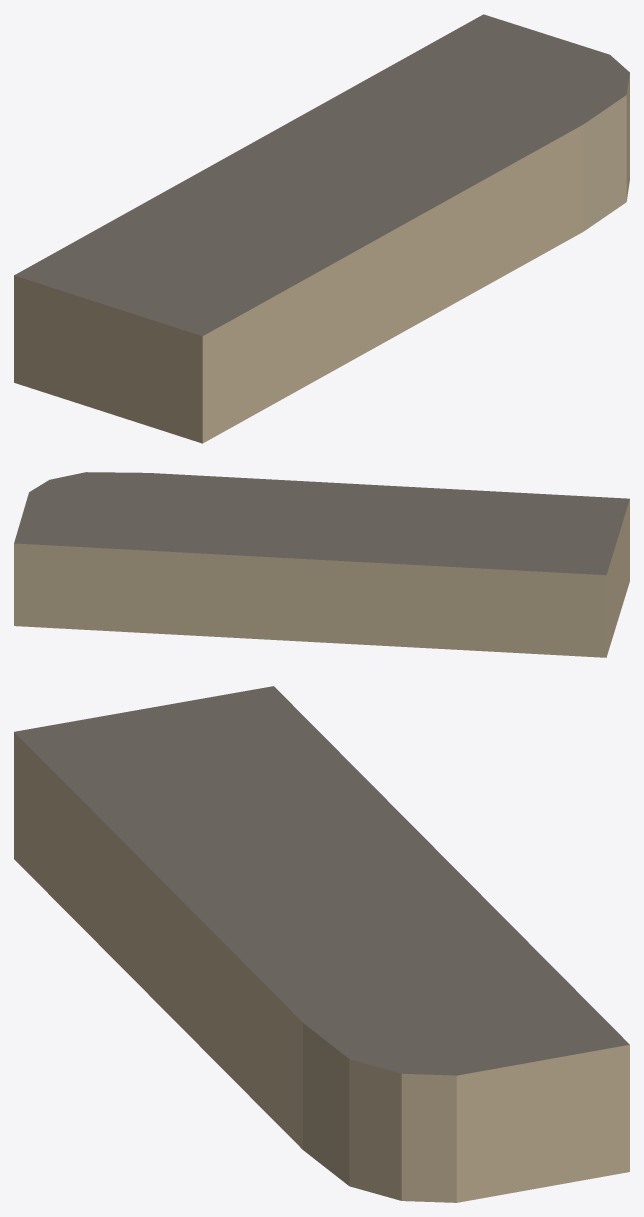
3 renders of one model, top to bottom at view 1: azimuth 30°, elevation 25°; view 2: azimuth 150°, elevation 25°; view 3: azimuth 270°, elevation 25°, orthographic. The views are drawn at different scales.
Parts seen in each view (by area): view 1: HP-w1222186991; view 2: HP-w1222186991; view 3: HP-w1222186991.
Part boxes in pixels (left/top/right/bottom): HP-w1222186991: left=14, top=14, right=629, bottom=443; HP-w1222186991: left=14, top=472, right=629, bottom=657; HP-w1222186991: left=14, top=686, right=629, bottom=1202.
Bounding box in the file's own units: 86.64 × 13.2 × 57.9.
